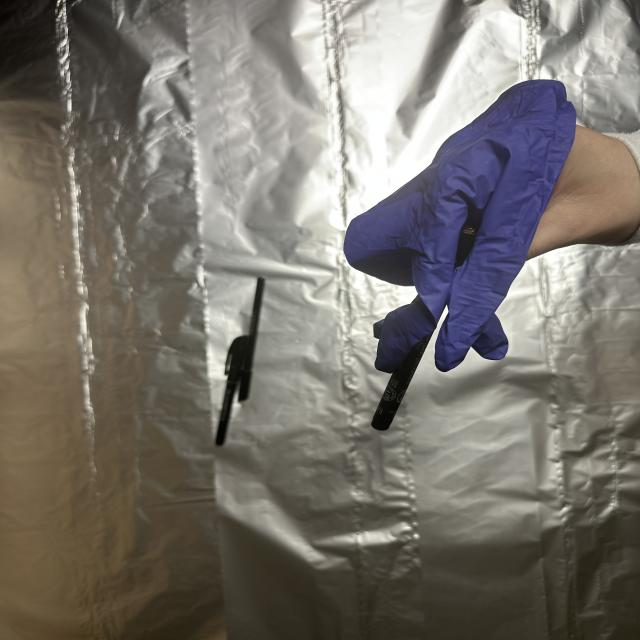glove_not_fitted: (342, 79, 640, 384)
